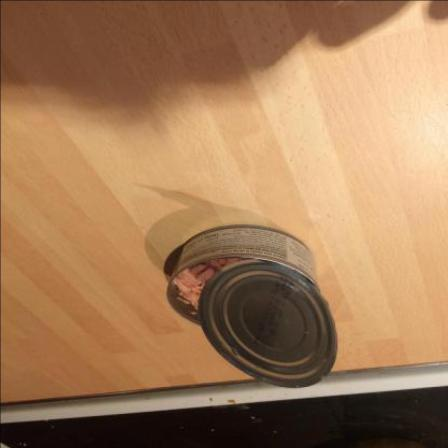Can: (168, 225, 338, 389)
Other litter: (174, 259, 244, 311)
